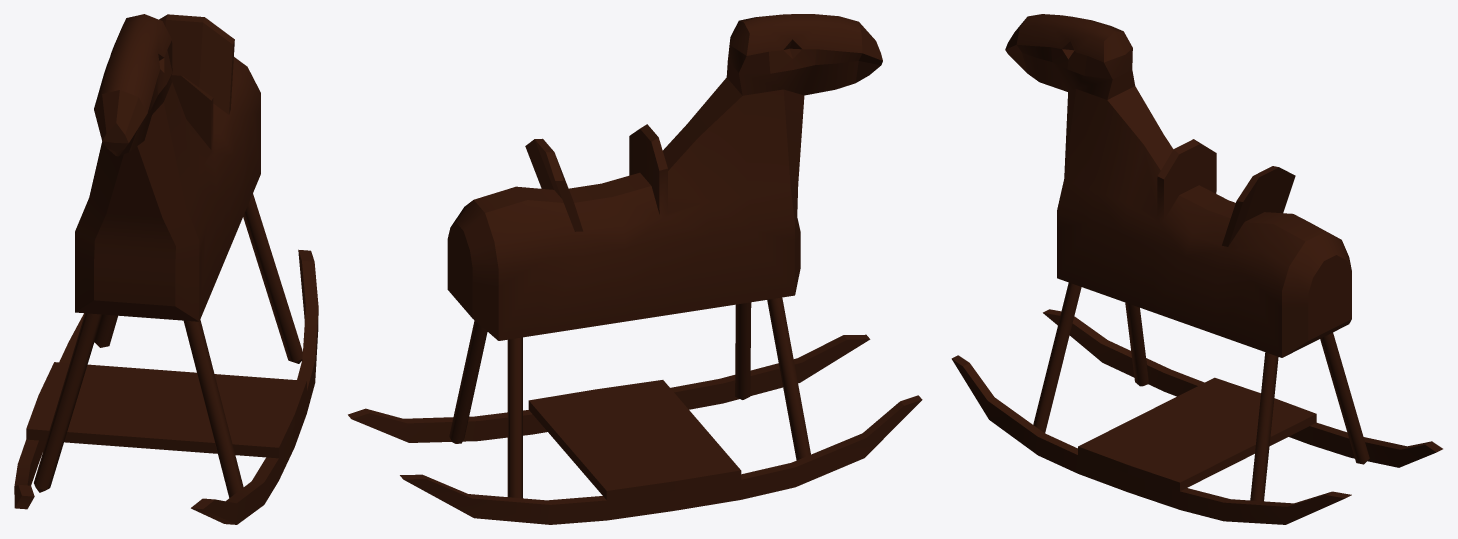
File: RockingHorse.FBX
The picture shows the model from 3 angles, left to right: view 1: azimuth 30°, elevation 25°; view 2: azimuth 150°, elevation 25°; view 3: azimuth 270°, elevation 25°; orthographic projection. The views are drawn at different scales.
Parts seen in each view (by area): view 1: RockingHorse; view 2: RockingHorse; view 3: RockingHorse.
Boxes of the visible parts, <box> form: RockingHorse: <box>14,14,318,524</box>; RockingHorse: <box>348,14,922,524</box>; RockingHorse: <box>951,14,1442,524</box>.
Size of the model in its own units: 462 by 454 by 508.
